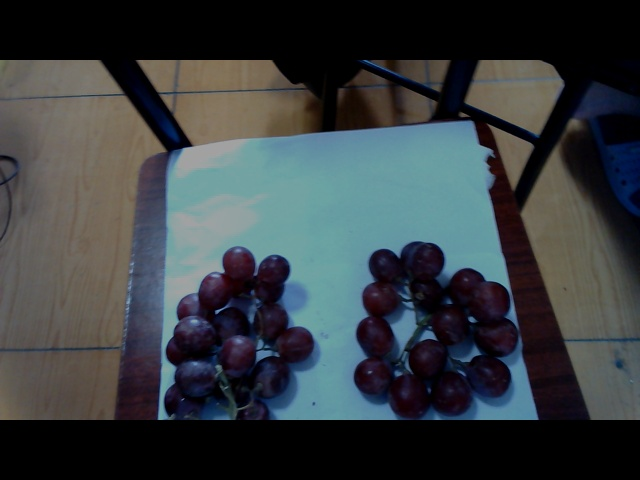grape: (349, 239, 519, 418), (157, 251, 312, 415)
